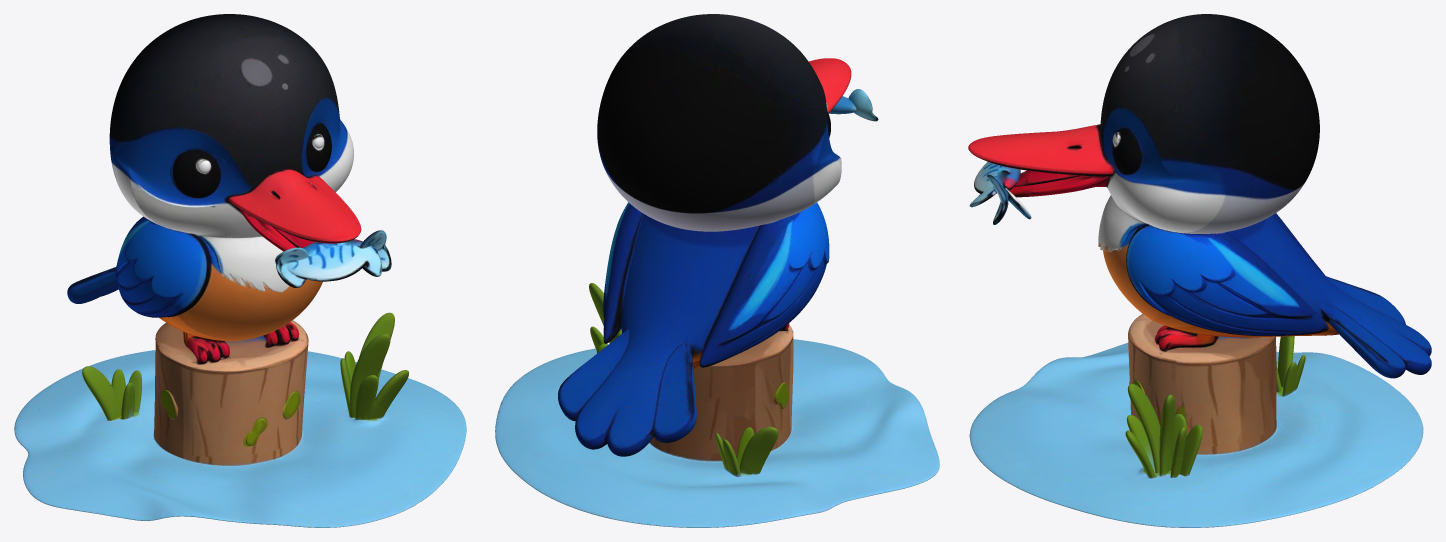
The model's file is mystery-wetland-bird.glb.
3 views of the same model, side by side, from view 1: azimuth 30°, elevation 25°; view 2: azimuth 150°, elevation 25°; view 3: azimuth 270°, elevation 25° (orthographic). The views are drawn at different scales.
Visible parts, largest first — view 1: node_0; view 2: node_0; view 3: node_0.
Boxes of the visible parts, x1=… form: node_0: x1=14, y1=14, x2=466, y2=527; node_0: x1=495, y1=14, x2=939, y2=527; node_0: x1=968, y1=14, x2=1431, y2=527.
Size of the model in its own units: 0.8645 by 0.8343 by 0.8647.
Materials: 1 (1 with a texture image).
